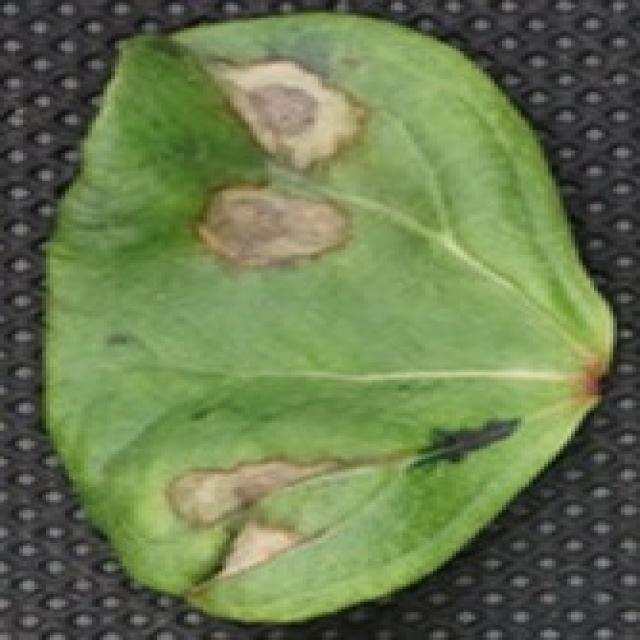Fusarium Wilt: (186, 44, 346, 586)
